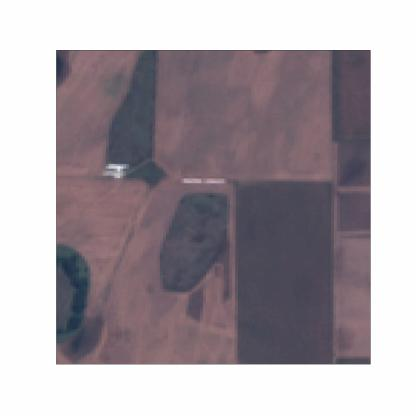silobolsa: (102, 169, 126, 180), (201, 174, 228, 182), (178, 177, 201, 182), (107, 162, 127, 167)
